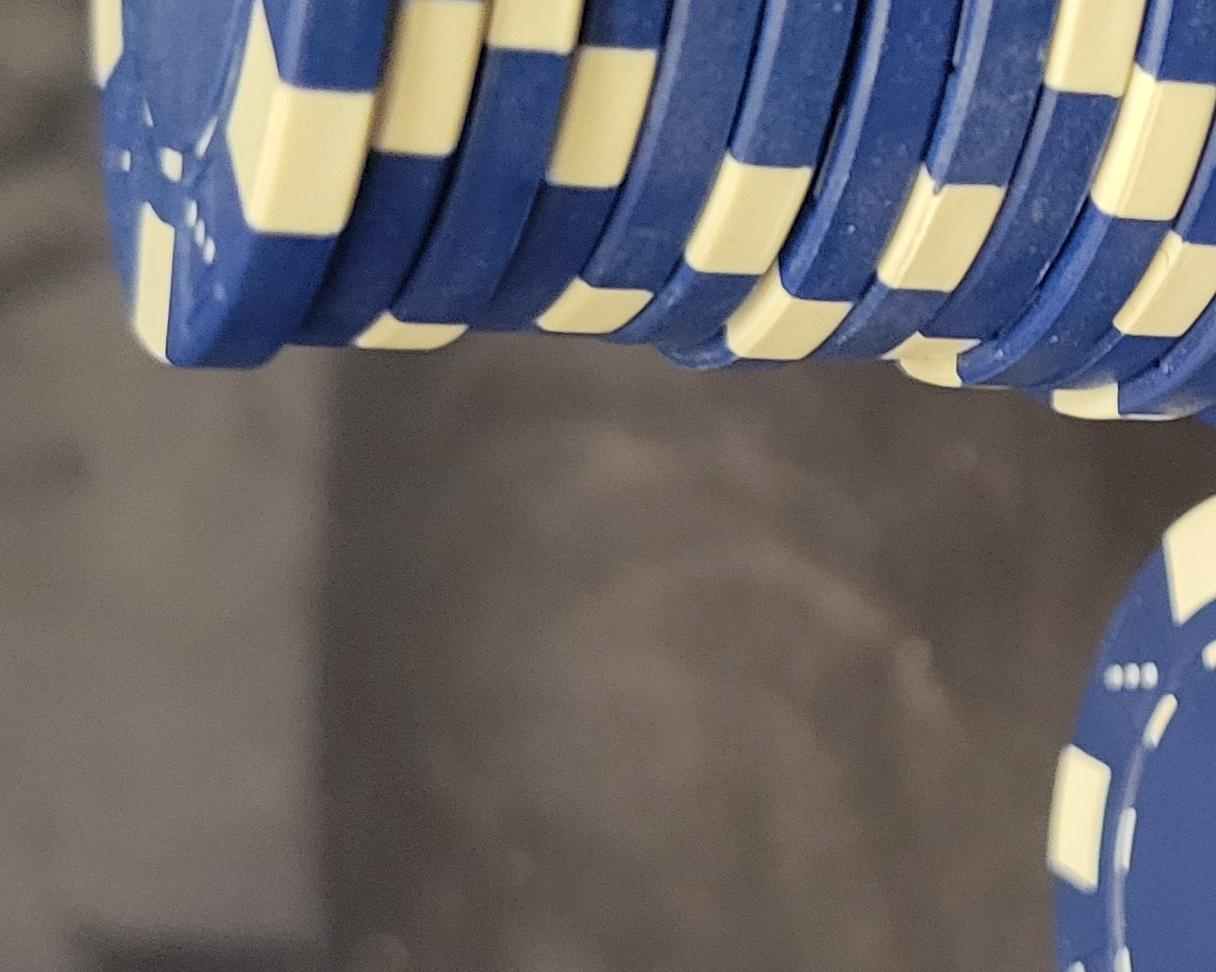Chip: (1, 389, 746, 972)
